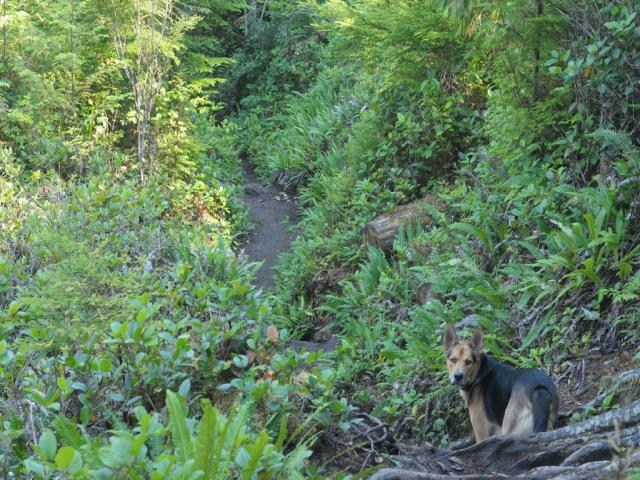Dog: (441, 322, 561, 446)
